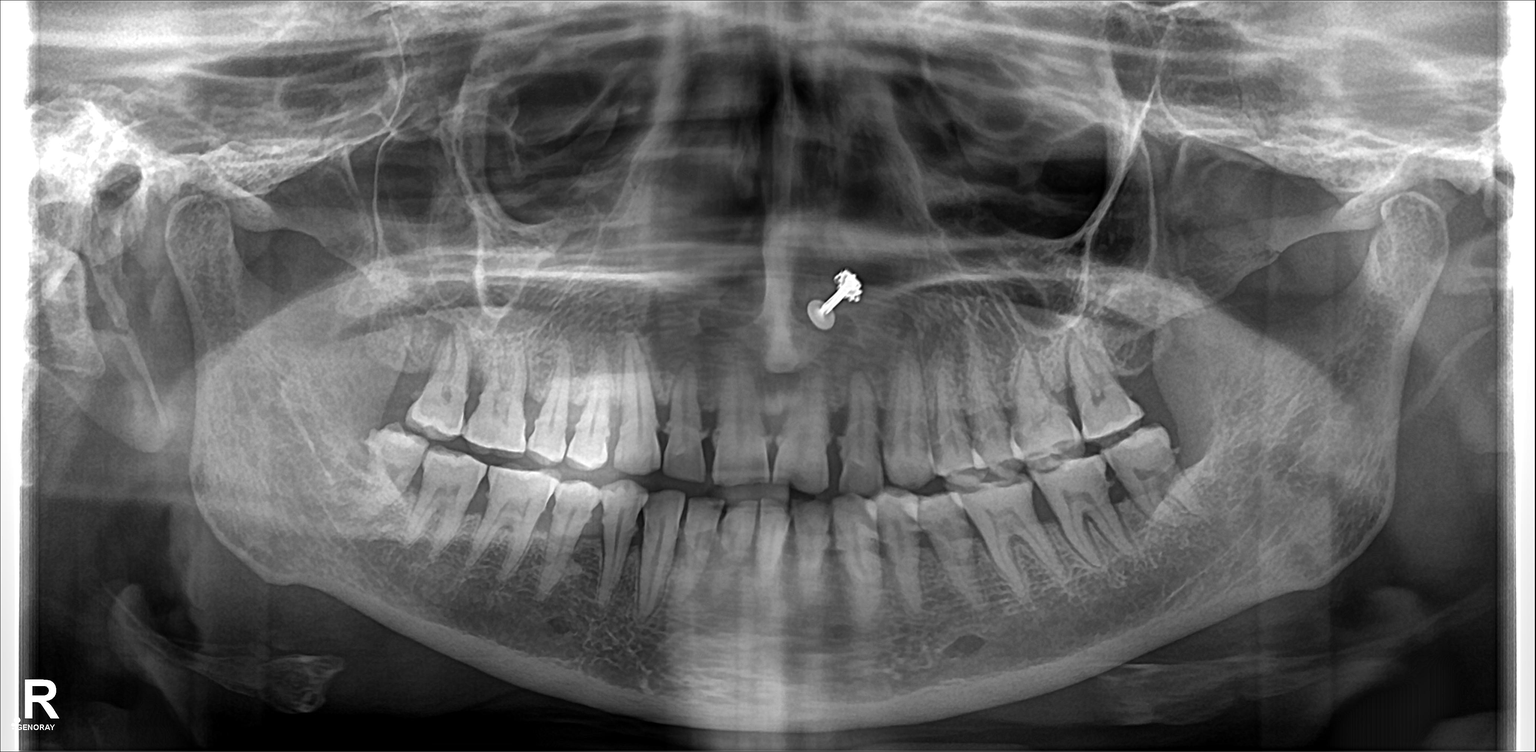Impacted Third Molar: (348, 430, 419, 518)
Missing Tooth: (1106, 315, 1167, 413), (1181, 415, 1231, 505), (380, 320, 423, 413)
